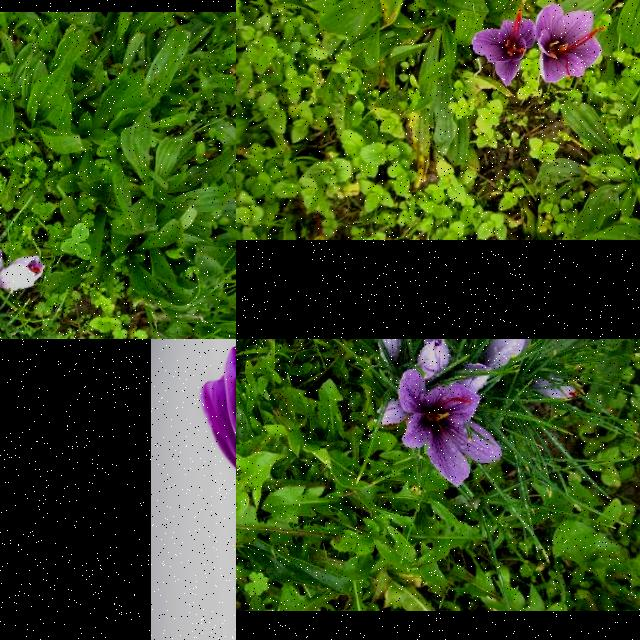flower: (397, 370, 503, 488), (535, 3, 607, 82), (472, 9, 536, 86), (478, 339, 532, 374), (0, 257, 44, 291), (415, 339, 451, 379), (457, 364, 493, 394), (532, 378, 580, 400), (377, 339, 404, 363)
